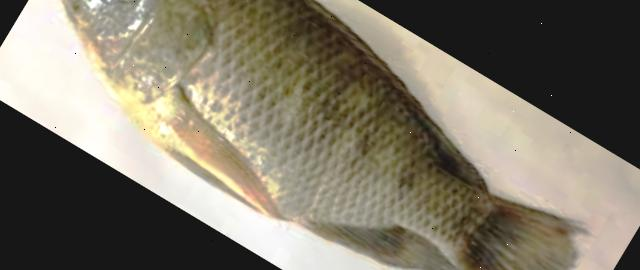Healthy Fish: (61, 0, 588, 270)
